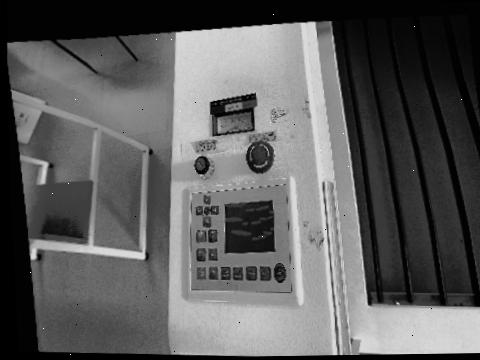Amp_Meter: (213, 107, 255, 136)
Display: (225, 201, 275, 253)
Down_button: (203, 217, 211, 228)
Emergency_Stop: (246, 141, 275, 174)
Enter_button: (197, 230, 206, 243)
Esc_button: (208, 229, 218, 242)
File_button: (208, 267, 218, 280)
Frame_button: (197, 249, 206, 261)
Left_button: (211, 205, 219, 215)
Max-Power_button: (221, 267, 230, 280)
Min-Power_button: (233, 267, 244, 280)
Origin_button: (209, 248, 218, 261)
Power_switch: (194, 156, 214, 179)
Pulse_button: (260, 267, 271, 280)
Reset_button: (274, 263, 286, 283)
Right_button: (196, 207, 202, 216)
Speed_button: (246, 267, 257, 280)
Start-Pause_button: (196, 267, 206, 279)
Up_button: (203, 196, 211, 205)
Z_U_button: (204, 206, 211, 215)
